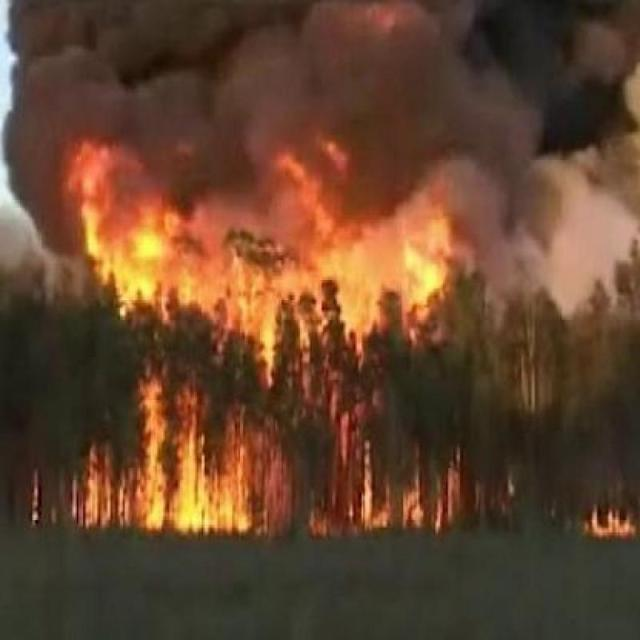Fire: (98, 235, 450, 360), (68, 414, 252, 549), (324, 410, 474, 538), (582, 502, 640, 564)
